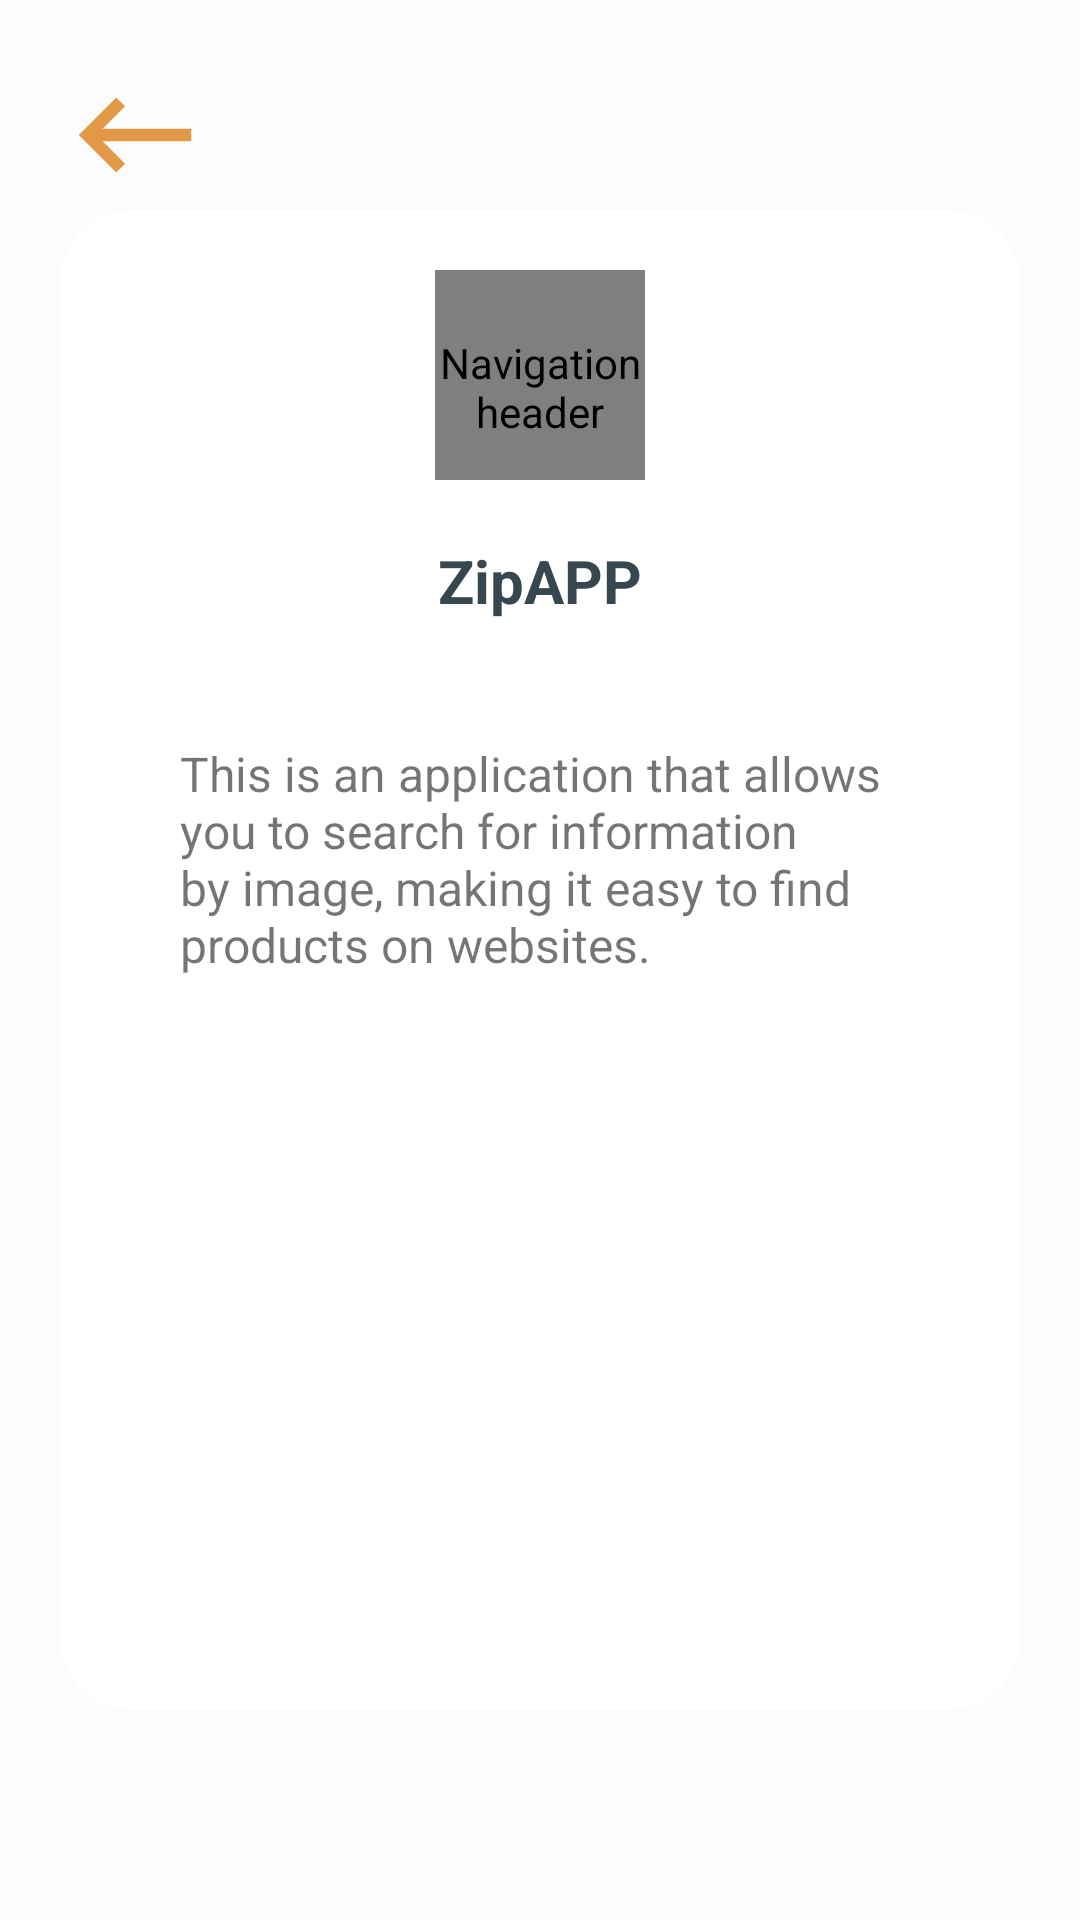

Named icons in this screenshot (1080x1920) and their centers, (x=x, y=y):
back: (x=135, y=135)
